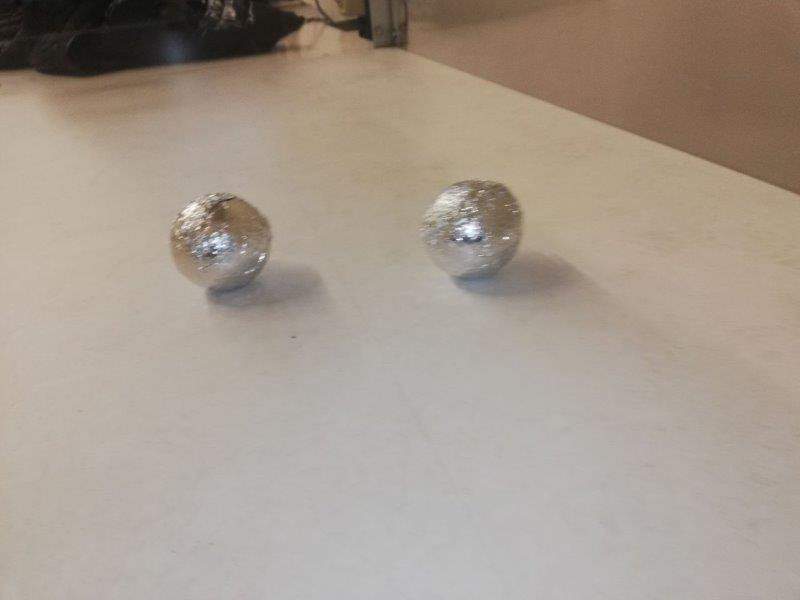bianca: (420, 175, 521, 282), (168, 192, 270, 289)
